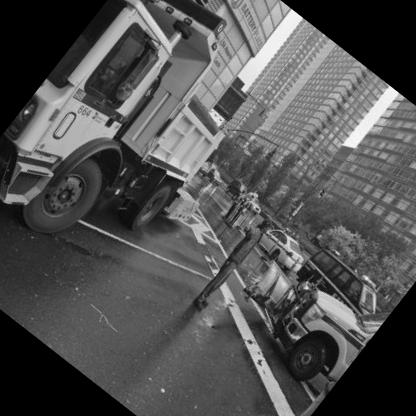car: (242, 208, 320, 283)
truck: (1, 1, 315, 310)
